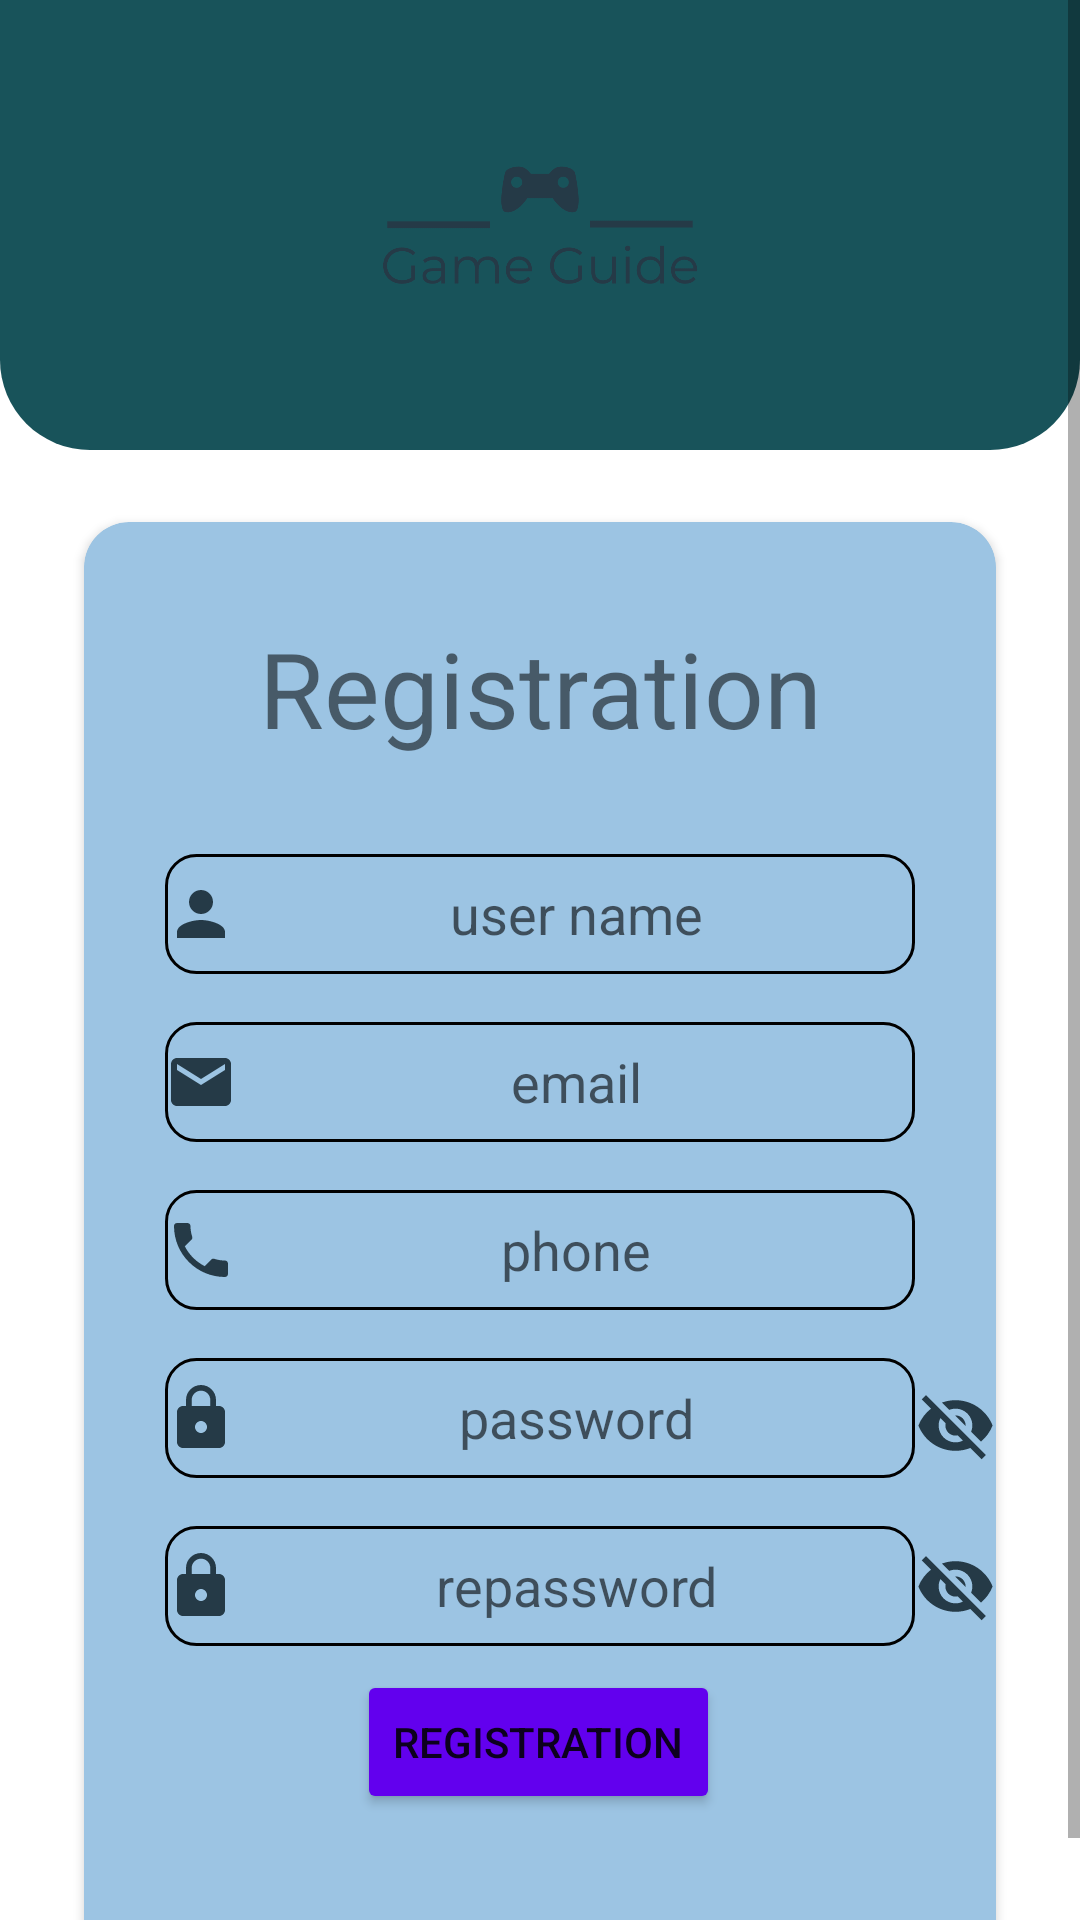

Icon bounding boxes for this 1080 × 1920 phone screenshot, format region(x1, y1, x2, y2):
visibility off: region(918, 1395, 993, 1459), region(918, 1556, 993, 1620)
